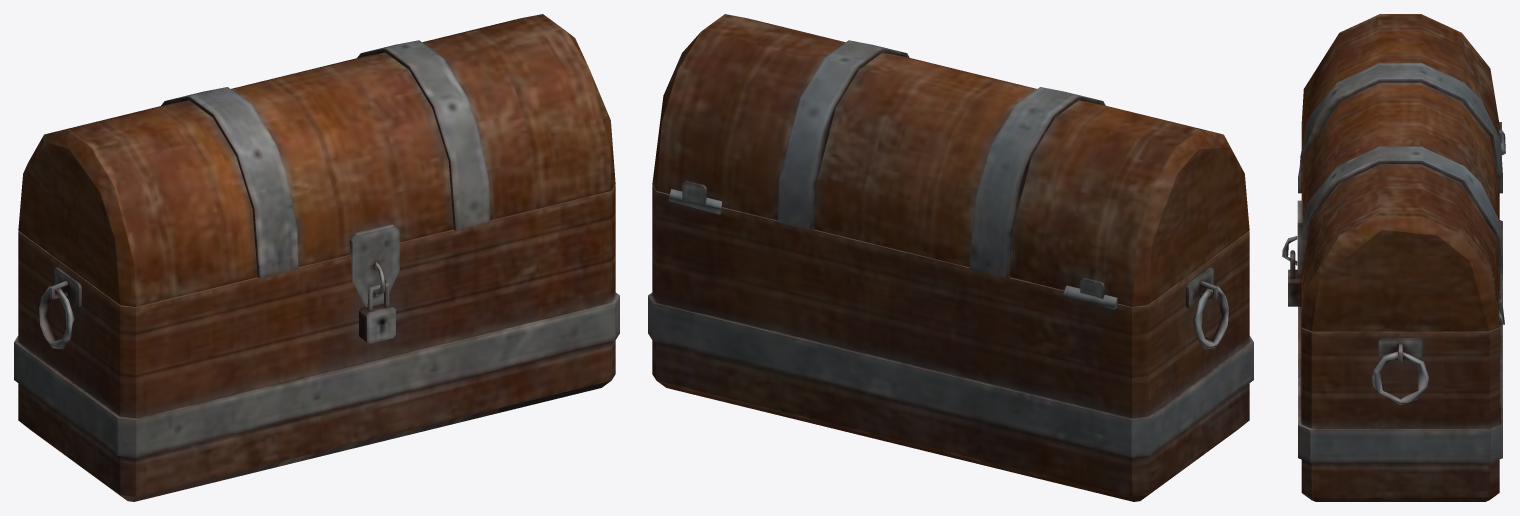
The picture shows the model from 3 angles, left to right: view 1: azimuth 30°, elevation 25°; view 2: azimuth 150°, elevation 25°; view 3: azimuth 270°, elevation 25°; orthographic projection. The views are drawn at different scales.
Visible parts, largest first — view 1: chest; view 2: chest; view 3: chest.
Boxes of the visible parts, left/top/right/bottom form: chest: left=14, top=14, right=619, bottom=501; chest: left=648, top=14, right=1253, bottom=501; chest: left=1282, top=14, right=1505, bottom=501.
Size of the model in its own units: 0.9234 by 0.5458 by 0.3838.
Materials: 1 (1 with a texture image).
